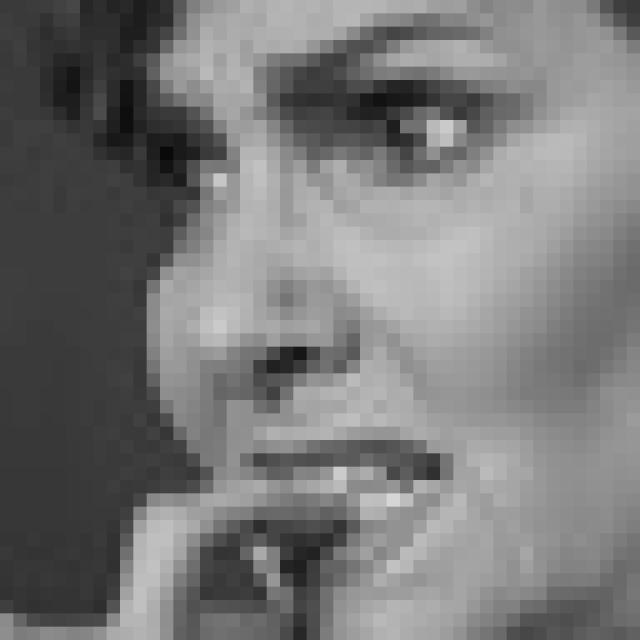fear: (161, 8, 537, 589)
